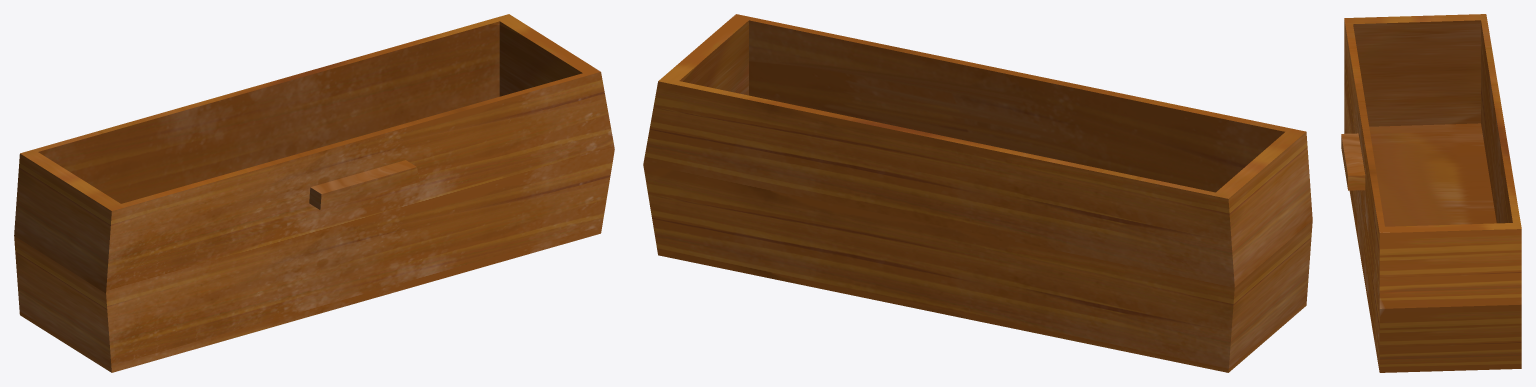
The model's file is EscritorioL_cajon1.glb.
3 renders of one model, left to right at view 1: azimuth 30°, elevation 25°; view 2: azimuth 150°, elevation 25°; view 3: azimuth 270°, elevation 25°, orthographic. The views are drawn at different scales.
Visible parts, largest first — view 1: E_escritorioL_cajon1; view 2: E_escritorioL_cajon1; view 3: E_escritorioL_cajon1.
Boxes of the visible parts, x1,y1,x2,y2 form: E_escritorioL_cajon1: (14,14,614,372); E_escritorioL_cajon1: (643,14,1312,372); E_escritorioL_cajon1: (1341,14,1521,372).
Bounding box in the file's own units: 4.19 × 1.2 × 1.41.
1 material, 1 textured.
